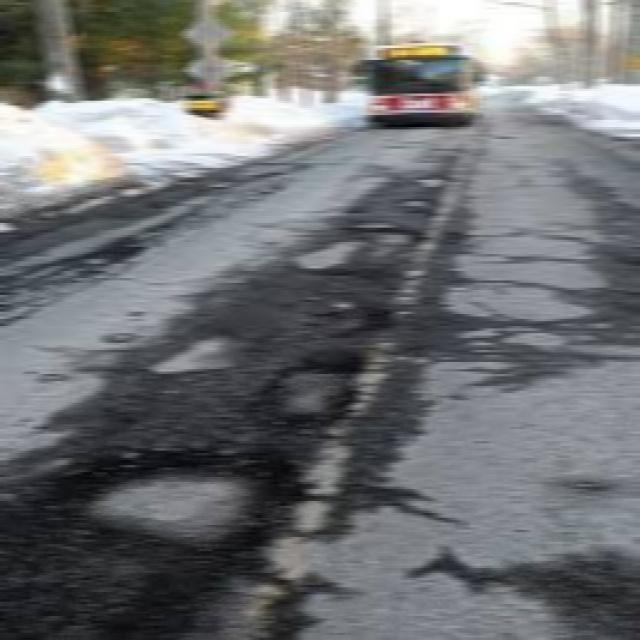Pothole: (53, 443, 306, 558), (257, 364, 381, 418), (147, 324, 250, 382), (286, 238, 369, 284), (342, 209, 427, 248), (390, 197, 435, 209), (414, 175, 444, 187)
